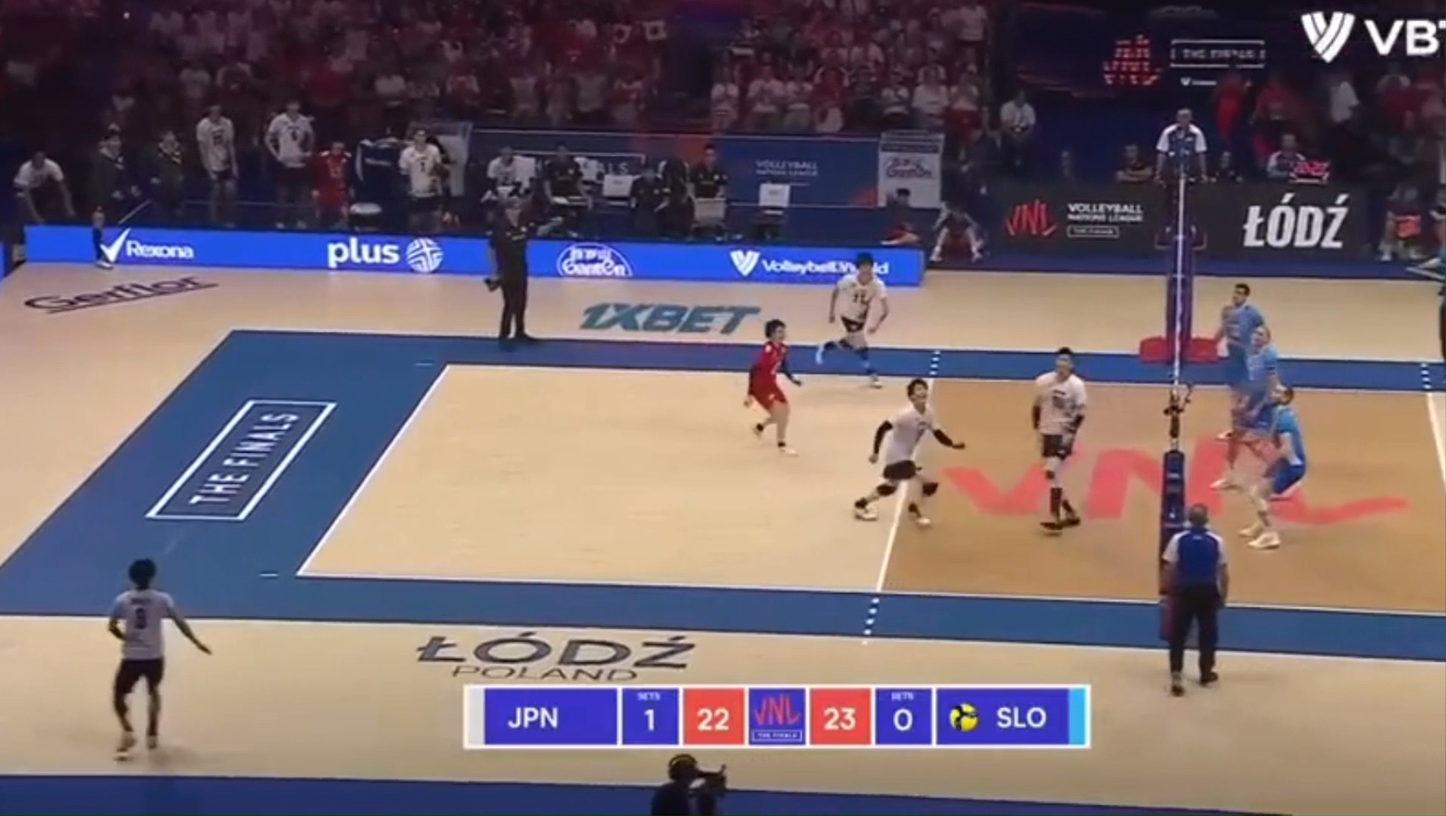player: (1213, 324, 1280, 489), (1242, 385, 1307, 549), (1213, 282, 1266, 388)
player 1: (107, 558, 210, 759), (854, 378, 966, 525), (1030, 348, 1086, 531), (815, 252, 888, 387), (745, 320, 801, 453)
referee: (1160, 503, 1229, 696), (1155, 108, 1207, 249), (487, 195, 536, 344)
